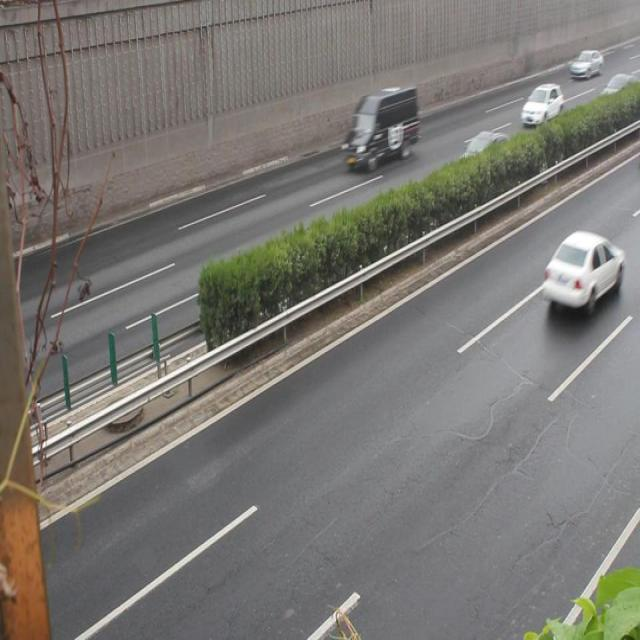car: (541, 228, 624, 316), (453, 130, 510, 191), (520, 82, 562, 130)
truck: (343, 83, 418, 169)
